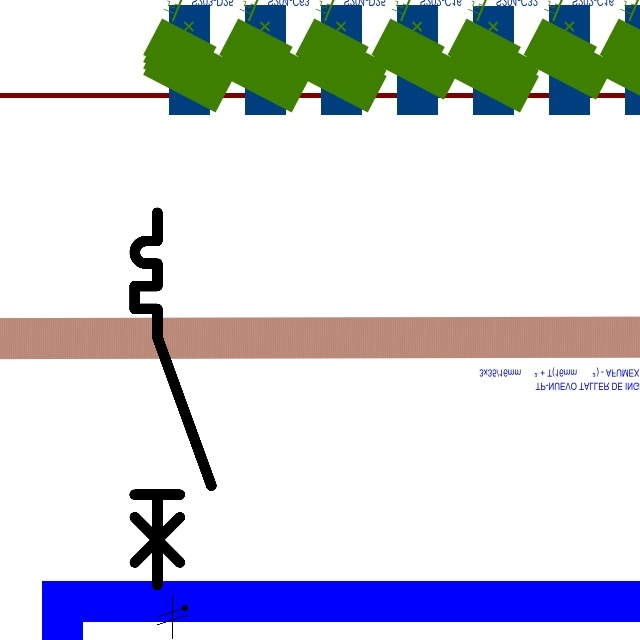interruptor_termomagnetico: (125, 203, 221, 594)
